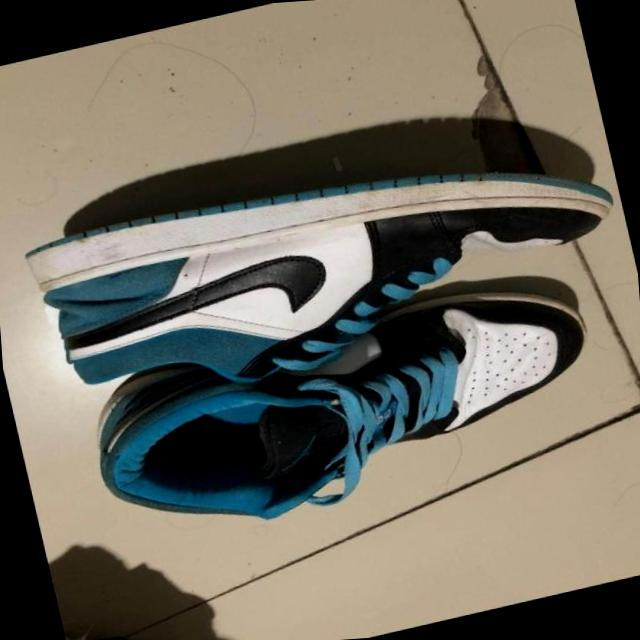nike_fake_jordan: (15, 110, 640, 425), (67, 259, 620, 557)
